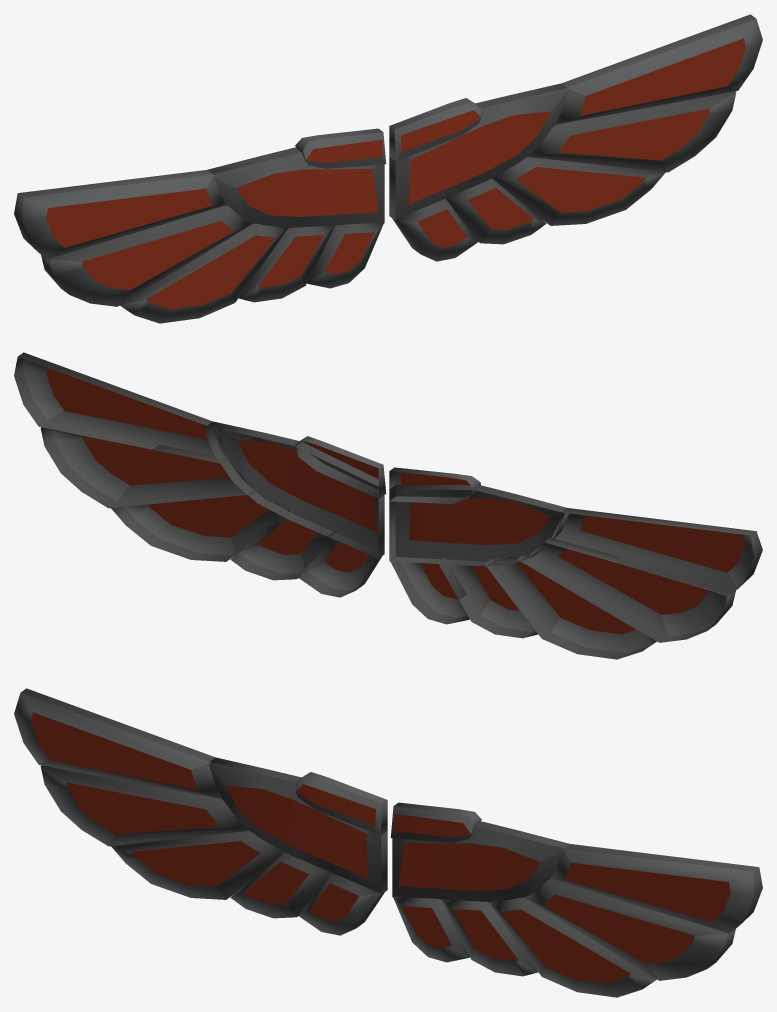
File: Wings_04.fbx
The picture shows the model from 3 angles, top to bottom: view 1: azimuth 30°, elevation 25°; view 2: azimuth 150°, elevation 25°; view 3: azimuth 330°, elevation 25°; orthographic projection.
Visible parts, largest first — view 1: Wings_04; view 2: Wings_04; view 3: Wings_04.
Part boxes in pixels (x1=…): Wings_04: x1=14, y1=14, x2=762, y2=323; Wings_04: x1=14, y1=352, x2=762, y2=659; Wings_04: x1=14, y1=688, x2=762, y2=997.
Bounding box in the file's own units: 213 × 44.83 × 5.97.
